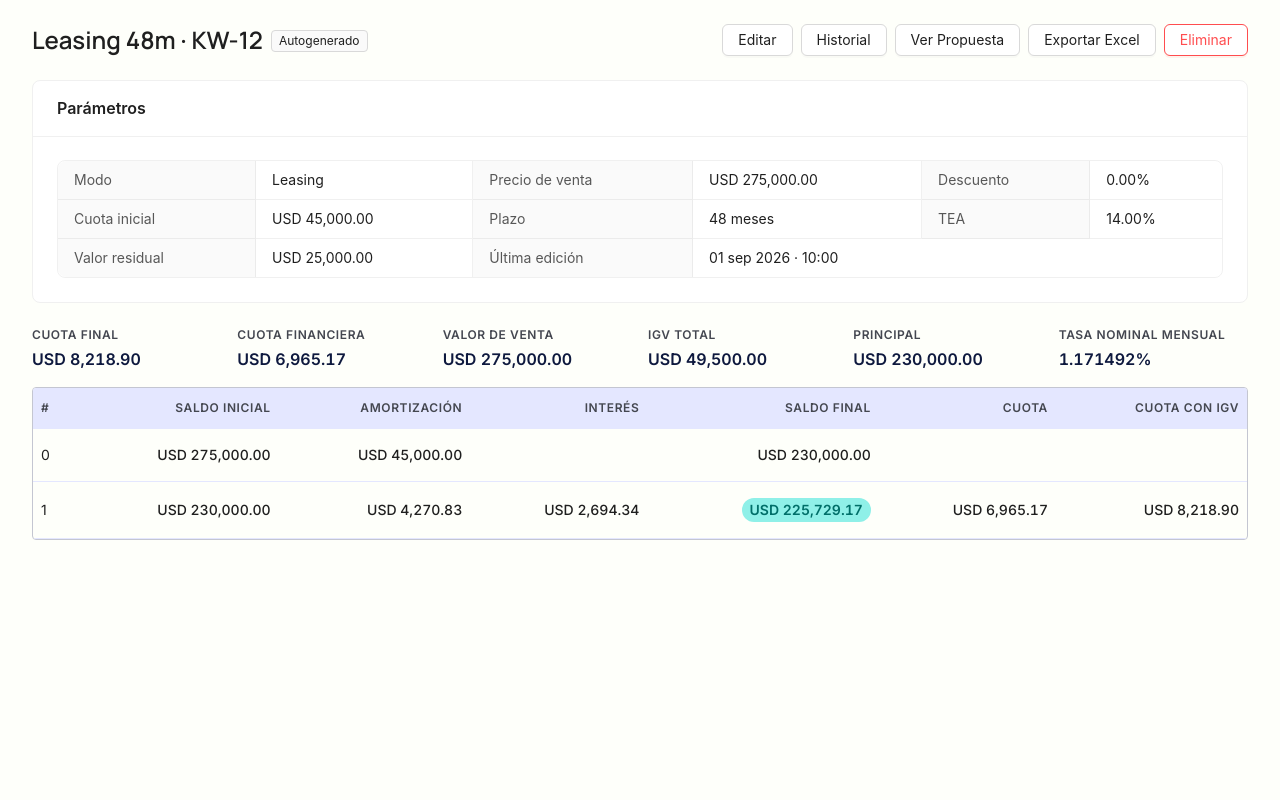
it: SimulacionDetallePage — Ver Propuesta › en una simulación huérfana omite cantidad y empresa sin pedir ninguna oportunidad
What coordinates should you click on to do the following:
click the button "Ver Propuesta"
I would click on:
 (957, 40)
Its box is [895,24,1020,56].
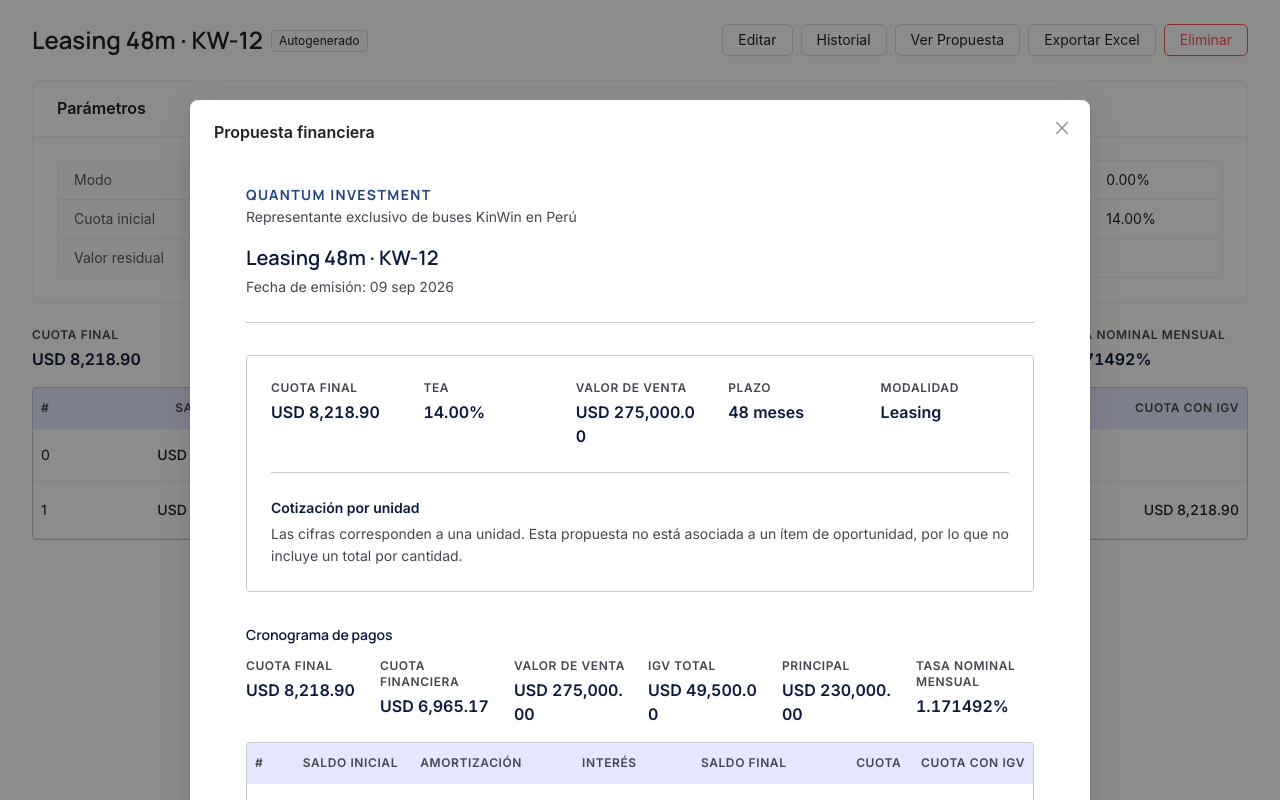
Expected: the text "Cotización por unidad" is shown, [271,499,420,516]
